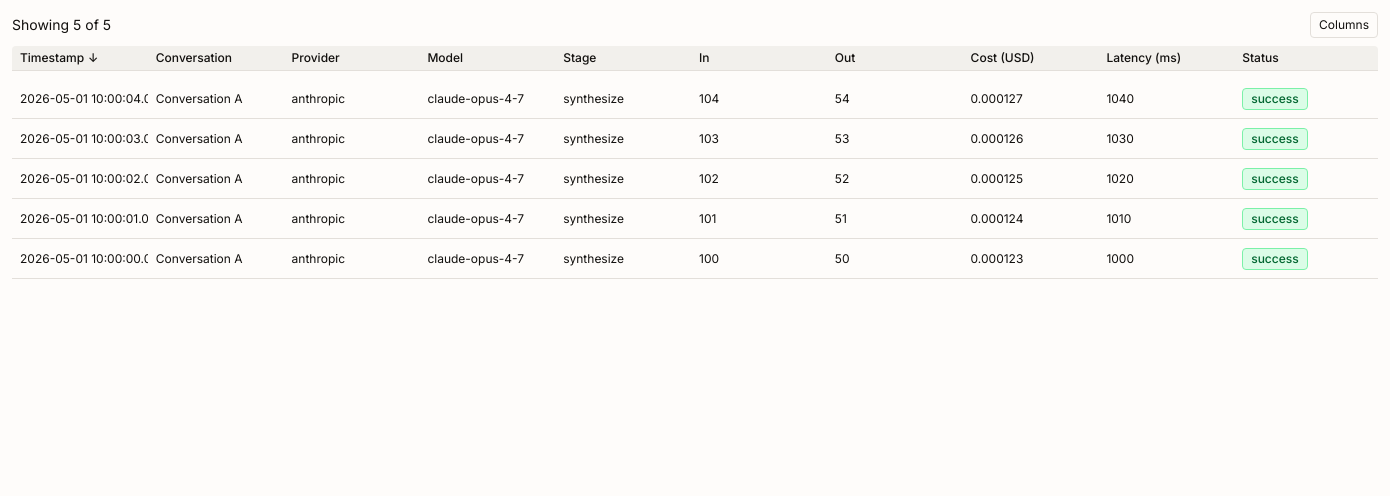
Test: EventTable — column visibility › hides a column when toggled off and persists state across remount
This screenshot has width=1390, height=496.
Expected: the button with test id "event-table-header-model" is shown, [427,50,555,66]
# Open columns panel + toggle "model" off
What coordinates should you click on to do the following:
click the button with test id "event-table-columns-toggle"
I would click on:
 (1344, 25)
Its box is [1310,12,1378,38].
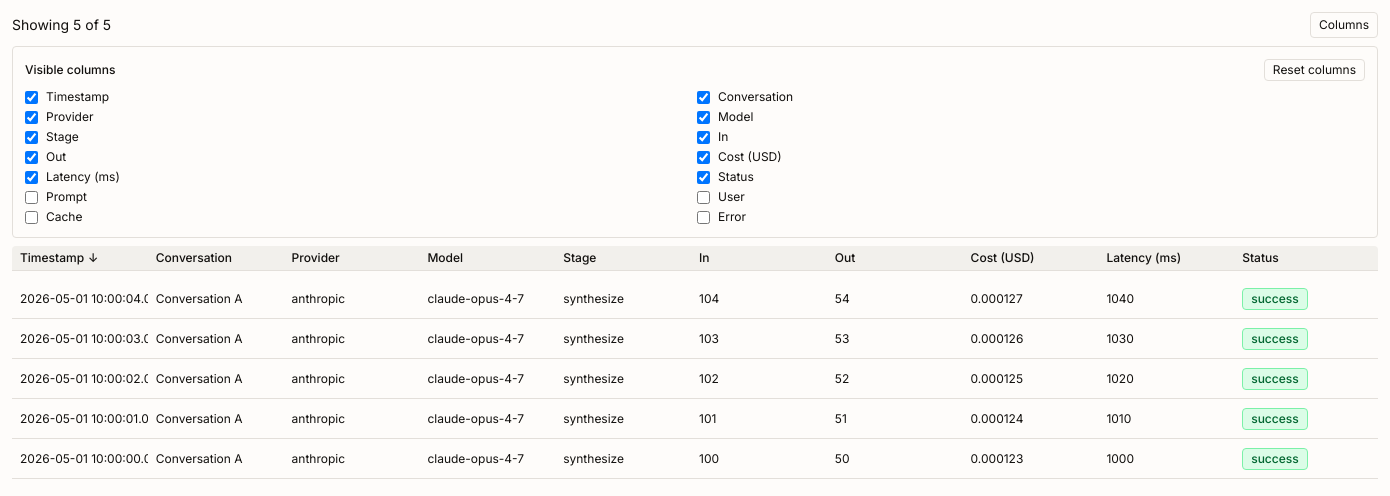
What coordinates should you click on to do the following:
click the checkbox with test id "event-table-column-checkbox-model"
I would click on:
 (704, 117)
Its box is [697,110,710,124].
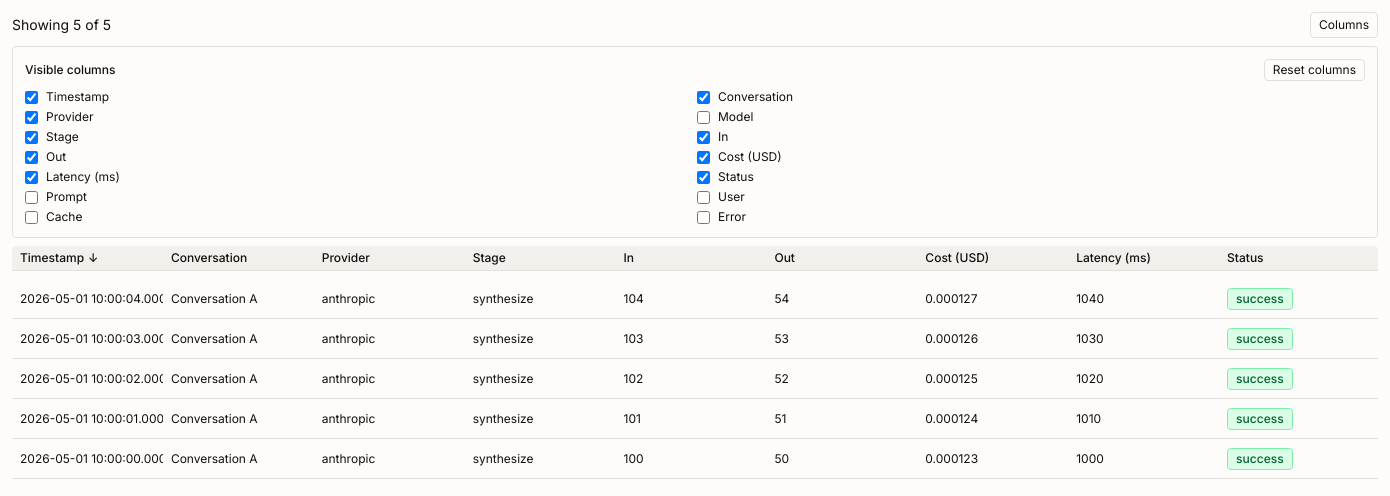
Expected: the button with test id "event-table-header-model" is gone
